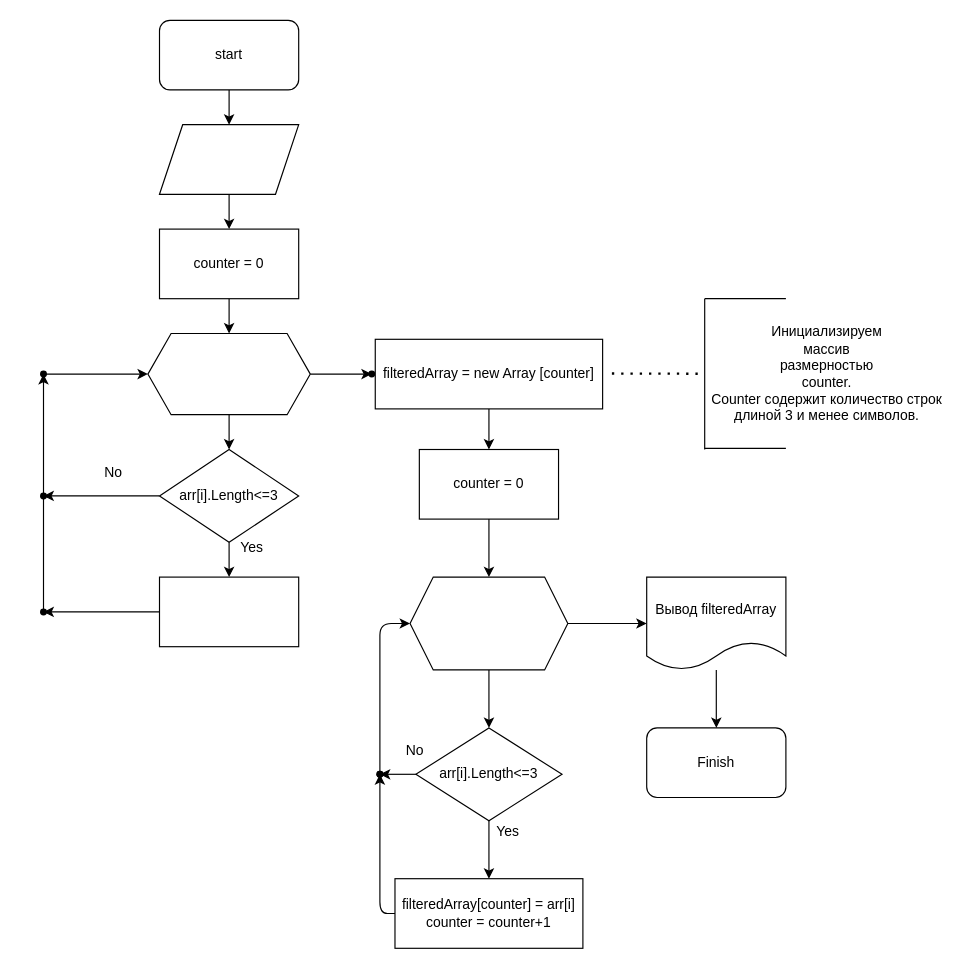
This 969x969 diagram has some shape labels left out. Each missing label, with the centre of its shape:
counter=counter+1: the point at 228,611
i = 0; i < length; i = i +1: the point at 488,623
i=0; i<length; i=i+1: the point at 228,373
Ввод length ввод arr: the point at 228,159
